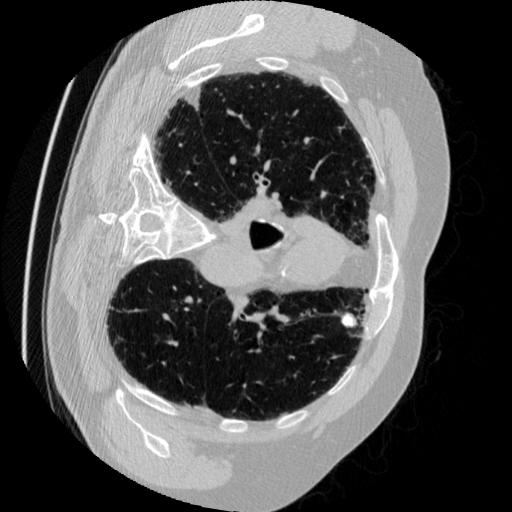nodule: (338, 308, 361, 331)
